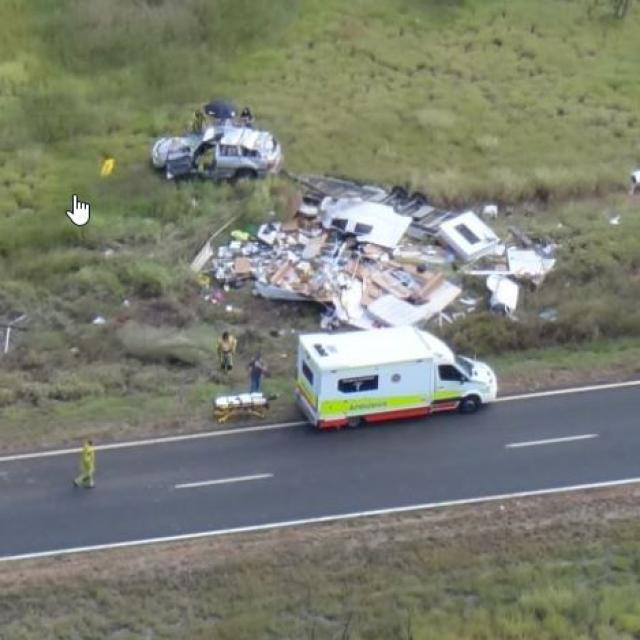traffic_incident: (195, 175, 547, 344)
